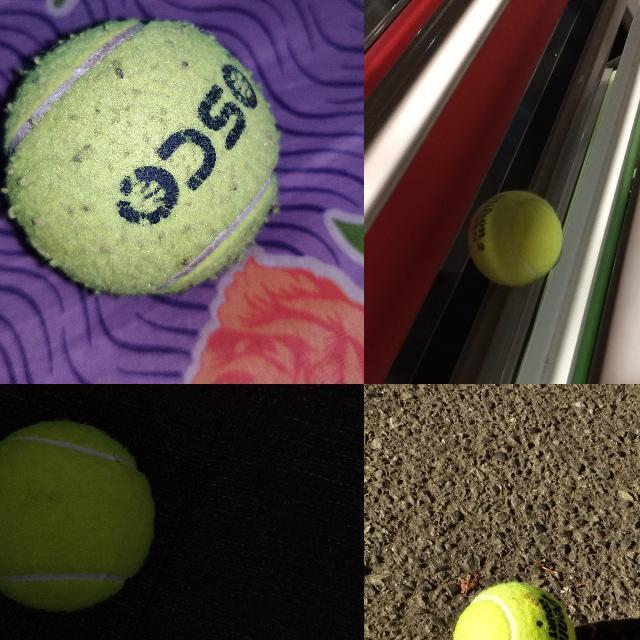tennis-ball: (4, 19, 280, 295), (0, 419, 155, 611), (467, 189, 564, 287), (451, 582, 579, 639)
